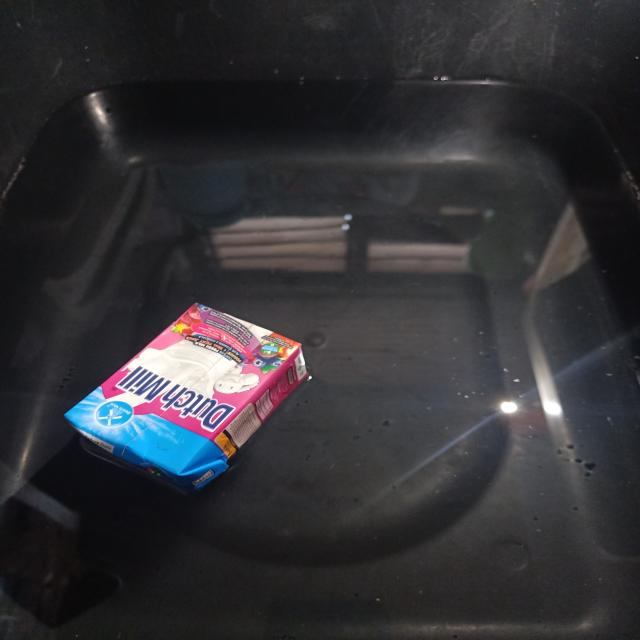Cardboard Box: (65, 304, 307, 490)
